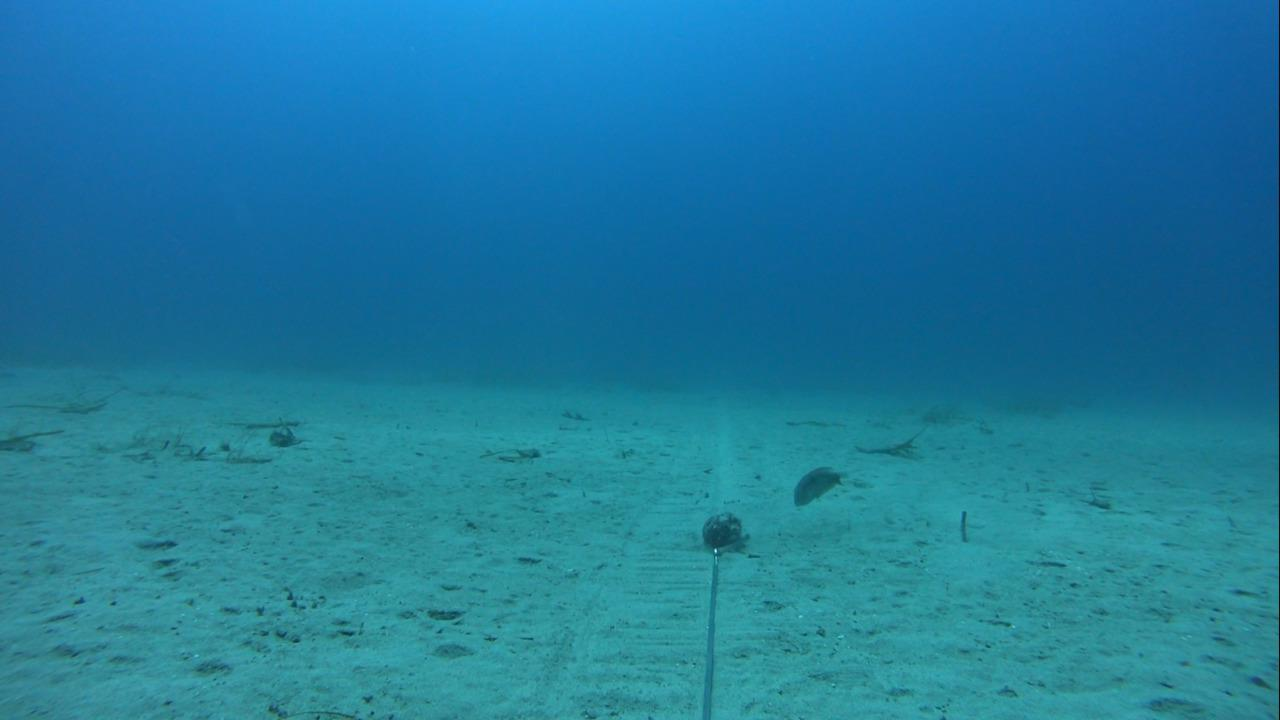raor: (786, 463, 849, 511)
